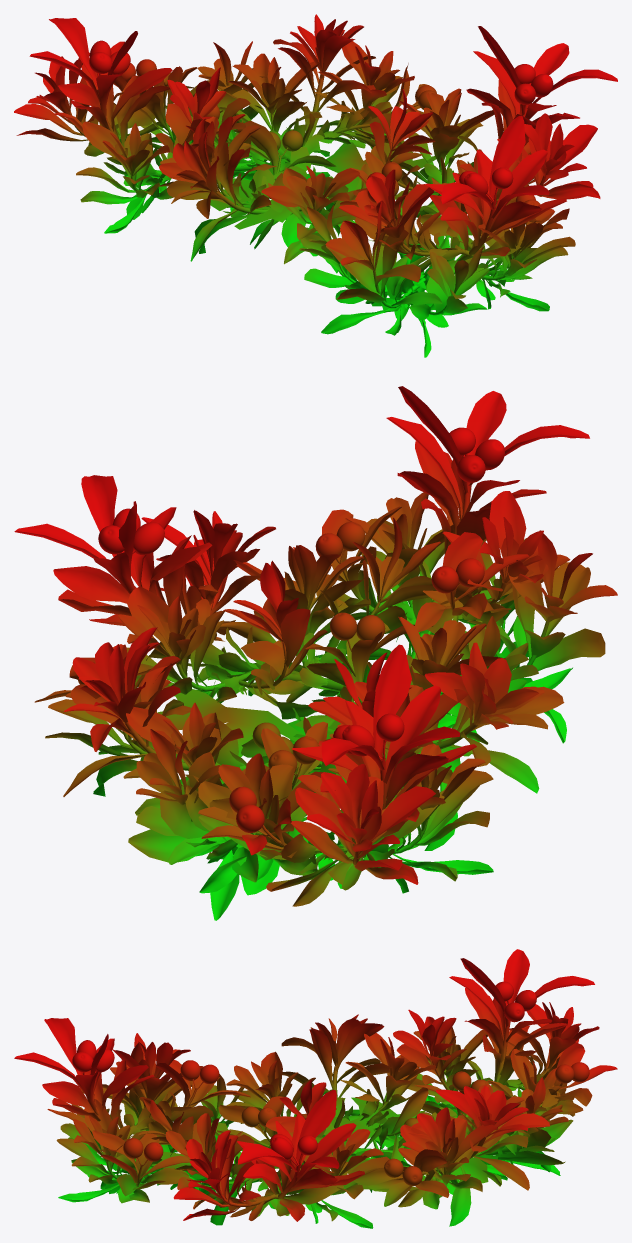
Rendered from Alpine Bearberry_LOD0_Var2_xb0gdazqx.fbx.
3 views of the same model, one above another, from view 1: azimuth 30°, elevation 25°; view 2: azimuth 150°, elevation 25°; view 3: azimuth 270°, elevation 25° (orthographic). The views are drawn at different scales.
Parts seen in each view (by area): view 1: _mu7i_Var2_LOD0; view 2: _mu7i_Var2_LOD0; view 3: _mu7i_Var2_LOD0.
Part boxes in pixels (bbox=[...]): _mu7i_Var2_LOD0: bbox=[14, 14, 617, 357]; _mu7i_Var2_LOD0: bbox=[14, 386, 617, 920]; _mu7i_Var2_LOD0: bbox=[14, 949, 617, 1228].
Size of the model in its own units: 34.74 by 17.08 by 44.87.
